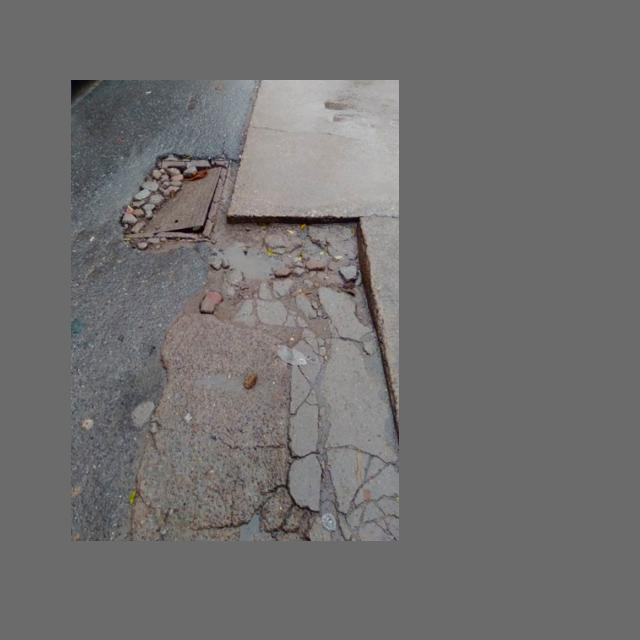uncovered: (124, 159, 231, 243)
